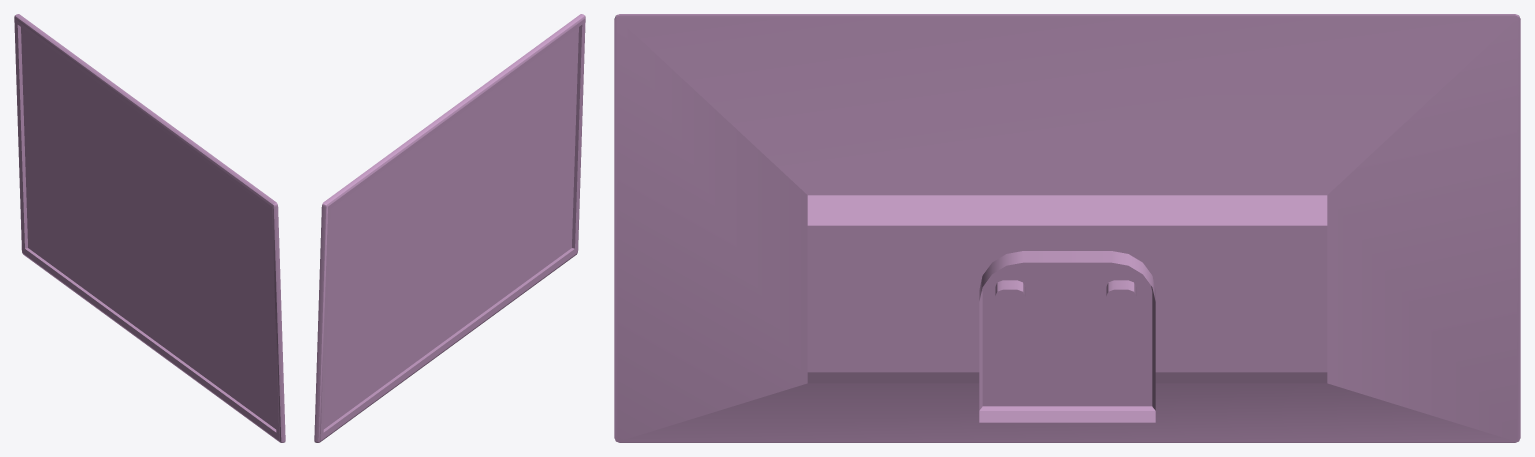
The picture shows the model from 3 angles, left to right: view 1: azimuth 30°, elevation 25°; view 2: azimuth 150°, elevation 25°; view 3: azimuth 270°, elevation 25°; orthographic projection. The views are drawn at different scales.
Parts seen in each view (by area): view 1: pCube60; view 2: pCube60; view 3: pCube60.
Boxes of the visible parts, x1,y1,x2,y2 form: pCube60: (14,14,285,442); pCube60: (314,14,585,442); pCube60: (614,14,1520,442).
Size of the model in its own units: 0.2899 by 1.28 by 2.5.
